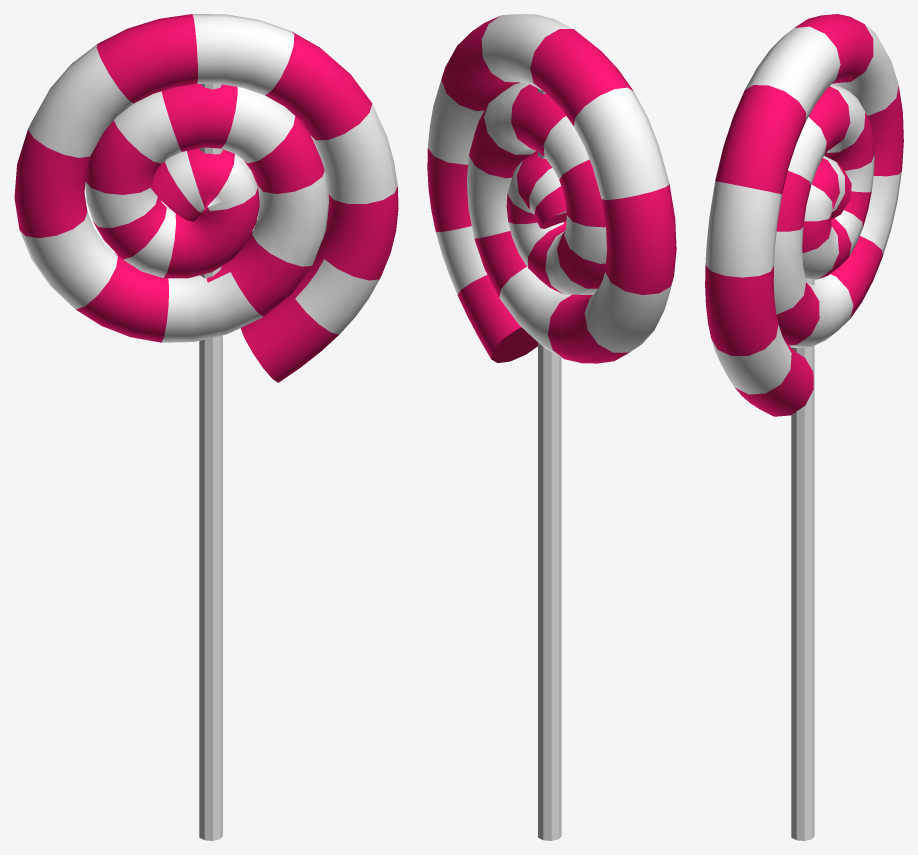
The model's file is 15_SwirlLolly.fbx.
3 views of the same model, side by side, from view 1: azimuth 30°, elevation 25°; view 2: azimuth 150°, elevation 25°; view 3: azimuth 270°, elevation 25° (orthographic). The views are drawn at different scales.
Visible parts, largest first — view 1: BézierCurve.004, Cylinder.056; view 2: BézierCurve.004, Cylinder.056; view 3: BézierCurve.004, Cylinder.056.
Boxes of the visible parts, x1,y1,x2,y2 form: BézierCurve.004: [14, 14, 398, 382]; Cylinder.056: [199, 84, 222, 840]; BézierCurve.004: [427, 14, 676, 363]; Cylinder.056: [538, 88, 561, 840]; BézierCurve.004: [705, 14, 903, 416]; Cylinder.056: [791, 278, 814, 840].
Bounding box in the file's own units: 142 × 360 × 80.74.
